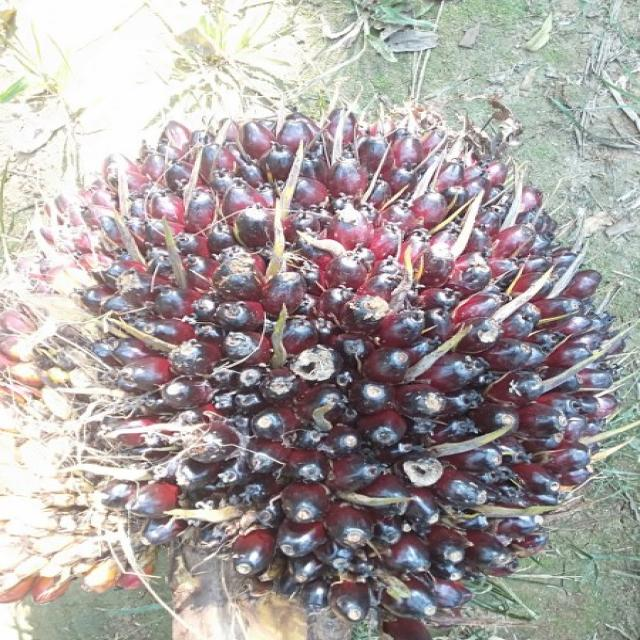fraksi 1: (1, 65, 640, 640)
